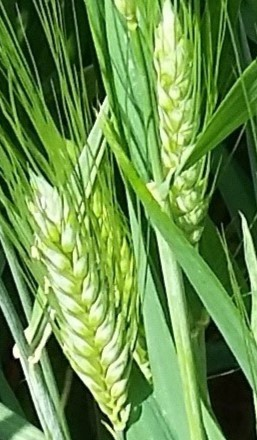Healthy Wheat: (22, 183, 136, 414)
